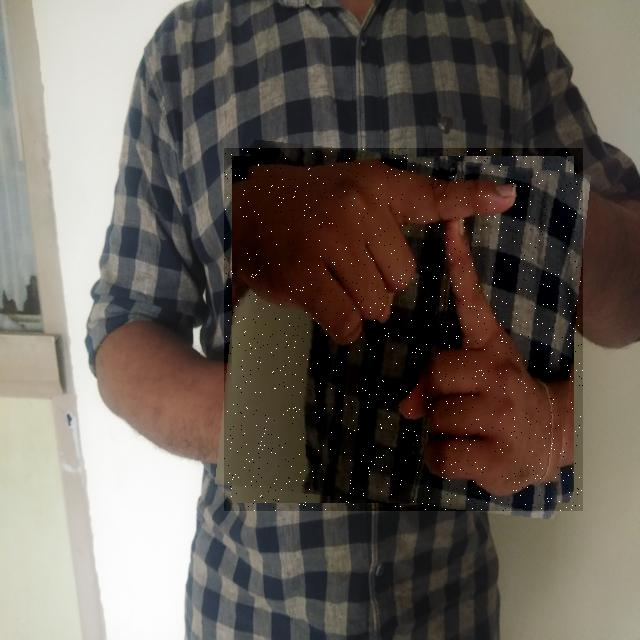T: (224, 148, 583, 511)
